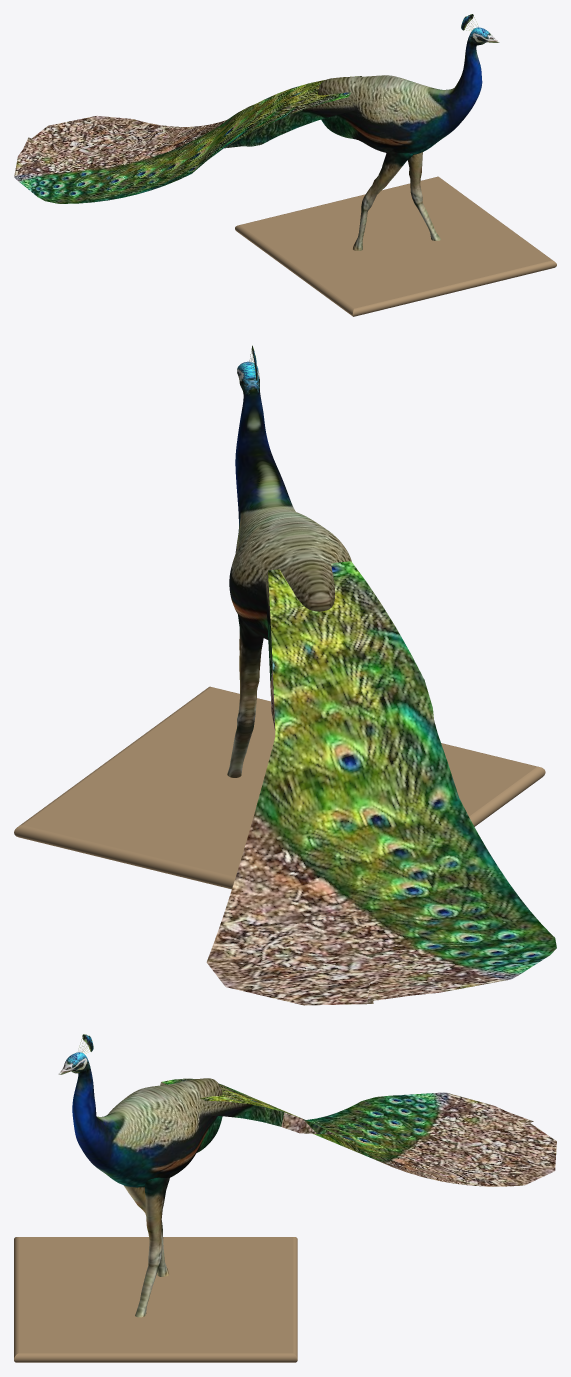
The model's file is pea.obj.
3 views of the same model, one above another, from view 1: azimuth 30°, elevation 25°; view 2: azimuth 150°, elevation 25°; view 3: azimuth 270°, elevation 25° (orthographic). The views are drawn at different scales.
Parts seen in each view (by area): view 1: Mesh20 Group10 Group1 _____peacock______statue1 Model, Mesh19 Group2 Group1 _____peacock______statue1 Model, Mesh14 Subsurf_4_1 Group5 Group2 Group1 _____peacock______statue, Mesh18 Group9 Group2 Group1 _____peacock______statue1 Model, Mesh13 Group4 Group2 Group1 _____peacock______statue1 Model, Mesh15 Group6 Group2 Group1 _____peacock______statue1 Model; view 2: Mesh19 Group2 Group1 _____peacock______statue1 Model, Mesh20 Group10 Group1 _____peacock______statue1 Model, Mesh14 Subsurf_4_1 Group5 Group2 Group1 _____peacock______statue, Mesh15 Group6 Group2 Group1 _____peacock______statue1 Model; view 3: Mesh20 Group10 Group1 _____peacock______statue1 Model, Mesh19 Group2 Group1 _____peacock______statue1 Model, Mesh14 Subsurf_4_1 Group5 Group2 Group1 _____peacock______statue, Mesh15 Group6 Group2 Group1 _____peacock______statue1 Model, Mesh17 Group8 Group2 Group1 _____peacock______statue1 Model, Mesh16 Group7 Group2 Group1 _____peacock______statue1 Model, Mesh13 Group4 Group2 Group1 _____peacock______statue1 Model.
Part boxes in pixels (x1=…): Mesh20 Group10 Group1 _____peacock______statue1 Model: x1=235, y1=176, x2=556, y2=316; Mesh19 Group2 Group1 _____peacock______statue1 Model: x1=14, y1=76, x2=361, y2=203; Mesh14 Subsurf_4_1 Group5 Group2 Group1 _____peacock______statue: x1=317, y1=27, x2=499, y2=154; Mesh18 Group9 Group2 Group1 _____peacock______statue1 Model: x1=253, y1=97, x2=355, y2=144; Mesh13 Group4 Group2 Group1 _____peacock______statue1 Model: x1=353, y1=153, x2=412, y2=250; Mesh15 Group6 Group2 Group1 _____peacock______statue1 Model: x1=408, y1=152, x2=440, y2=240; Mesh19 Group2 Group1 _____peacock______statue1 Model: x1=206, y1=561, x2=556, y2=1005; Mesh20 Group10 Group1 _____peacock______statue1 Model: x1=14, y1=686, x2=545, y2=889; Mesh14 Subsurf_4_1 Group5 Group2 Group1 _____peacock______statue: x1=229, y1=361, x2=351, y2=639; Mesh15 Group6 Group2 Group1 _____peacock______statue1 Model: x1=227, y1=615, x2=263, y2=777; Mesh20 Group10 Group1 _____peacock______statue1 Model: x1=14, y1=1237, x2=297, y2=1362; Mesh19 Group2 Group1 _____peacock______statue1 Model: x1=162, y1=1078, x2=556, y2=1186; Mesh14 Subsurf_4_1 Group5 Group2 Group1 _____peacock______statue: x1=58, y1=1052, x2=222, y2=1187; Mesh15 Group6 Group2 Group1 _____peacock______statue1 Model: x1=135, y1=1177, x2=169, y2=1317; Mesh17 Group8 Group2 Group1 _____peacock______statue1 Model: x1=202, y1=1100, x2=284, y2=1126; Mesh16 Group7 Group2 Group1 _____peacock______statue1 Model: x1=281, y1=1112, x2=334, y2=1134; Mesh13 Group4 Group2 Group1 _____peacock______statue1 Model: x1=123, y1=1185, x2=169, y2=1276.
Size of the model in its own units: 57.92 by 37.63 by 62.26.
